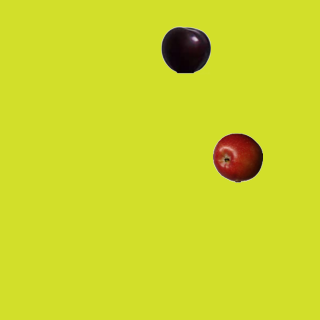Apple Braeburn: (212, 132, 262, 182)
Cherry Wax Black: (160, 24, 210, 74)
